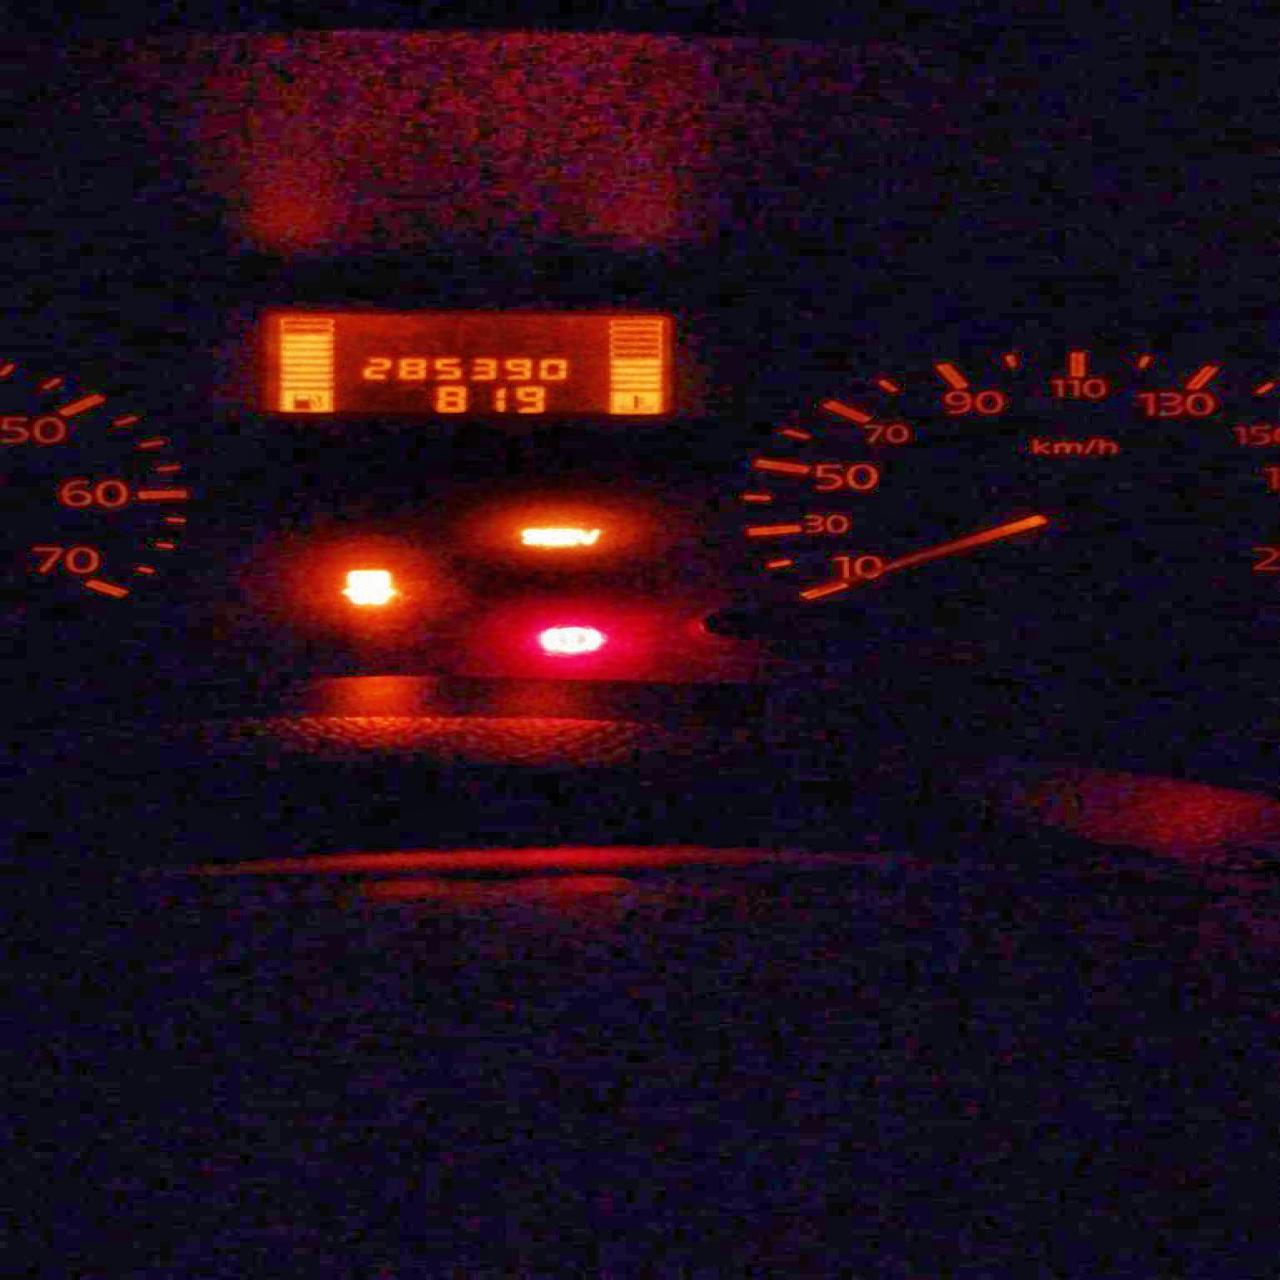0: (538, 358, 566, 380)
1: (492, 387, 506, 413)
2: (360, 356, 392, 380)
3: (469, 358, 496, 380)
5: (433, 356, 462, 380)
8: (433, 384, 467, 413), (396, 356, 425, 379)
9: (512, 384, 544, 413), (503, 358, 532, 380)
odometer: (258, 311, 676, 418)
